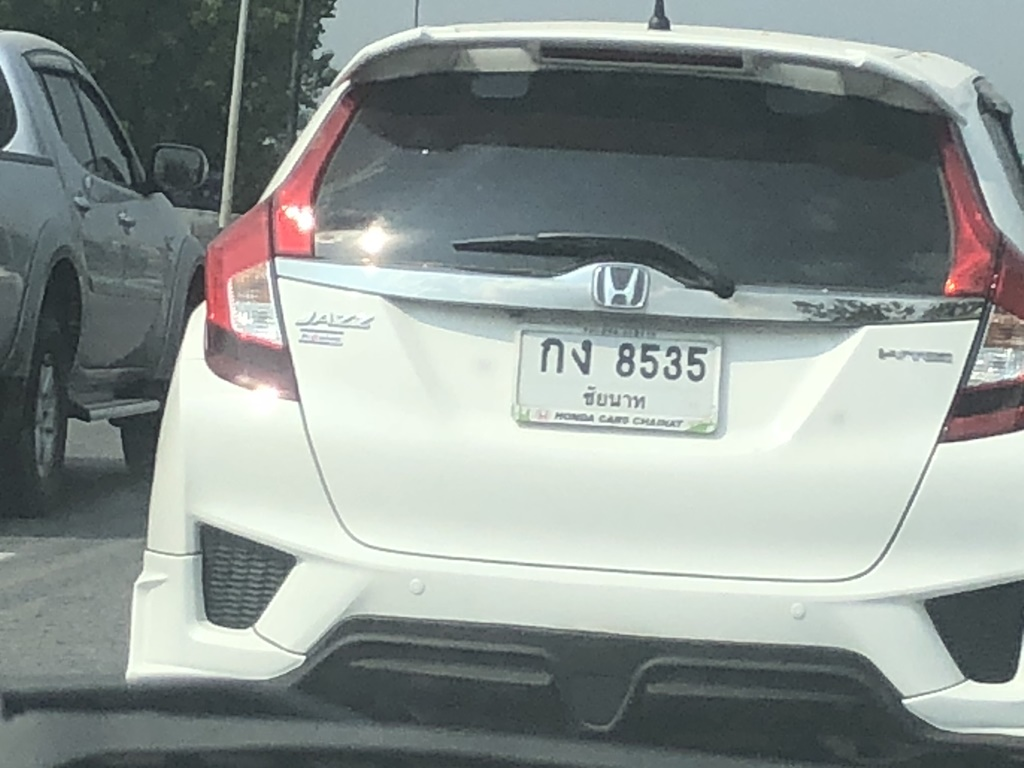three: (659, 338, 685, 385)
